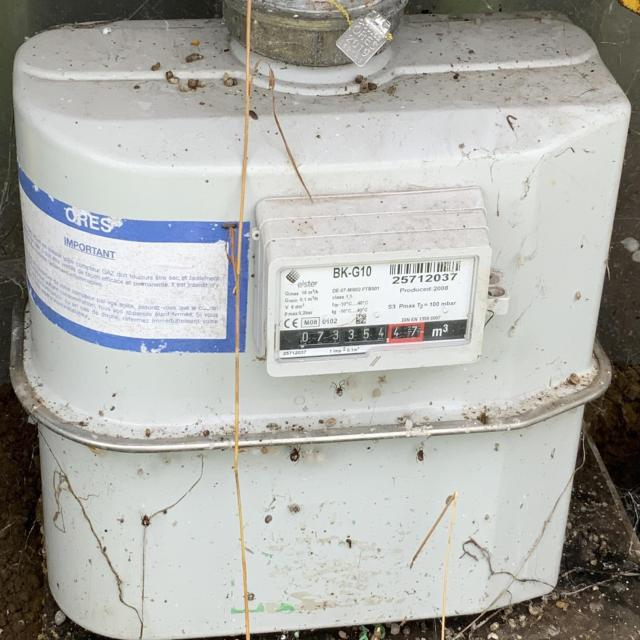gaz_meter: (274, 256, 479, 359)
indication: (279, 322, 425, 350)
